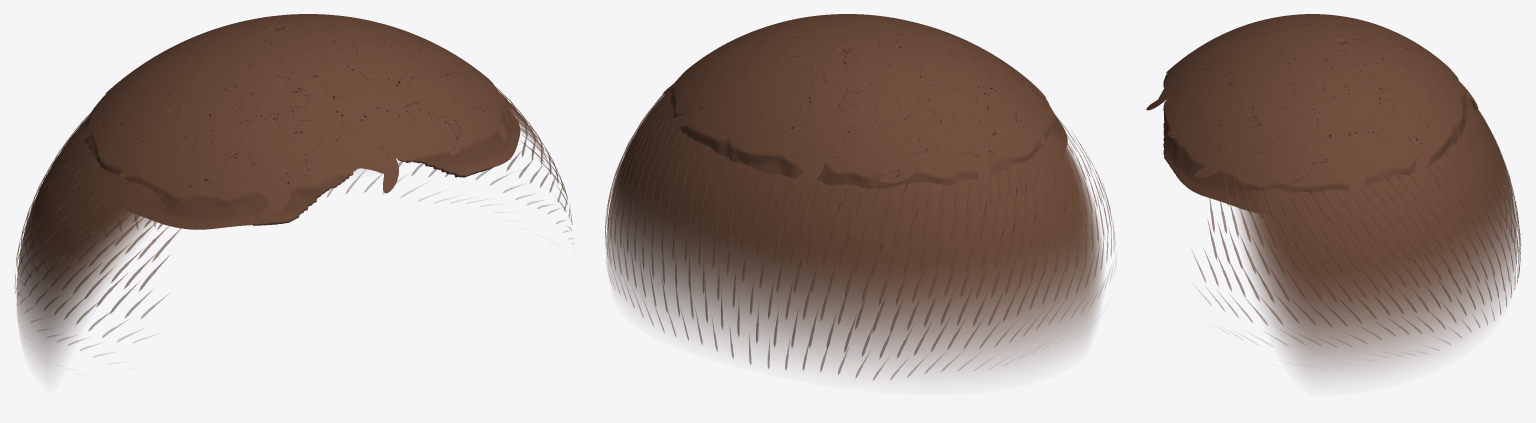
File: Masculine-curly-top-cap259-hair-ombre.glb
3 renders of one model, left to right at view 1: azimuth 30°, elevation 25°; view 2: azimuth 150°, elevation 25°; view 3: azimuth 270°, elevation 25°, orthographic. The views are drawn at different scales.
Parts seen in each view (by area): view 1: 226 hair / Hair252 / sculpted curl groups, 226 hair / Hair258 / smooth side fade, 226 hair / Hair259 / directional fade marks214; view 2: 226 hair / Hair258 / smooth side fade, 226 hair / Hair252 / sculpted curl groups, 226 hair / Hair259 / directional fade marks214; view 3: 226 hair / Hair258 / smooth side fade, 226 hair / Hair252 / sculpted curl groups, 226 hair / Hair259 / directional fade marks214.
Part boxes in pixels (bbox=[...]): 226 hair / Hair252 / sculpted curl groups: bbox=[72, 14, 520, 229]; 226 hair / Hair258 / smooth side fade: bbox=[16, 93, 551, 369]; 226 hair / Hair259 / directional fade marks214: bbox=[15, 87, 573, 356]; 226 hair / Hair258 / smooth side fade: bbox=[607, 91, 1103, 374]; 226 hair / Hair252 / sculpted curl groups: bbox=[663, 14, 1067, 191]; 226 hair / Hair259 / directional fade marks214: bbox=[605, 81, 1116, 379]; 226 hair / Hair258 / smooth side fade: bbox=[1235, 92, 1516, 377]; 226 hair / Hair252 / sculpted curl groups: bbox=[1146, 14, 1478, 212]; 226 hair / Hair259 / directional fade marks214: bbox=[1192, 93, 1521, 353].
Size of the model in its own units: 0.9743 by 0.584 by 0.7357.
